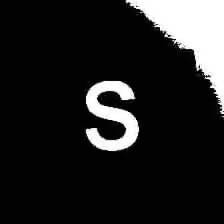LTR_S: (83, 73, 140, 152)
